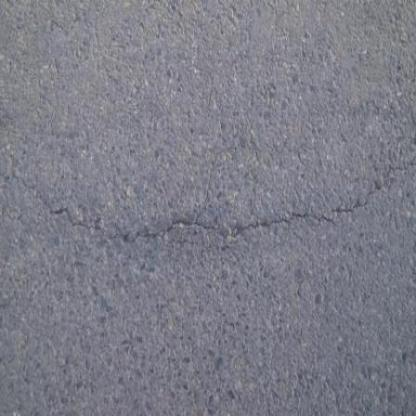Cracks: (3, 150, 416, 265)
